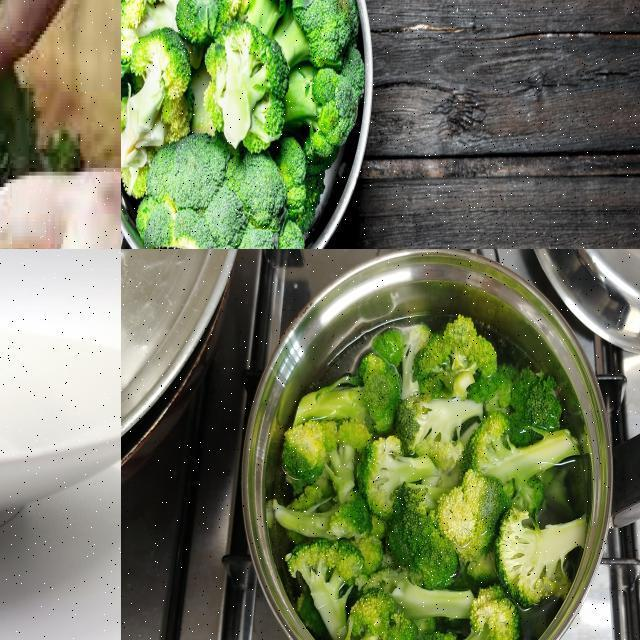broccoli: (239, 0, 369, 158), (458, 419, 578, 520), (203, 17, 292, 153), (0, 0, 42, 248), (283, 357, 408, 434), (491, 506, 588, 604), (287, 543, 364, 639), (126, 29, 189, 143), (121, 0, 203, 77), (364, 437, 436, 517), (432, 584, 529, 639), (330, 586, 420, 639), (178, 0, 256, 43)
